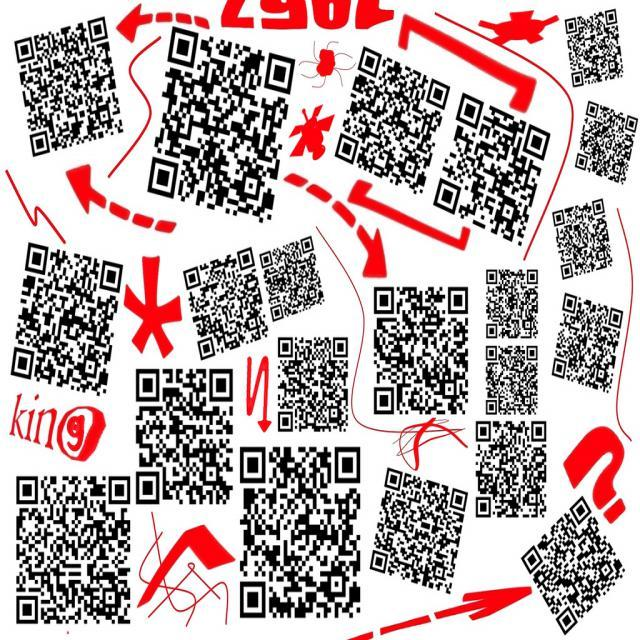qrcode: (148, 27, 296, 226), (241, 448, 361, 619), (434, 93, 552, 247), (11, 243, 124, 399), (335, 47, 451, 198), (17, 477, 131, 624), (15, 17, 124, 158), (522, 496, 628, 636), (137, 369, 234, 505), (371, 468, 470, 595), (375, 288, 469, 415), (184, 247, 271, 362), (552, 294, 624, 395), (477, 422, 547, 518), (279, 338, 349, 432), (260, 236, 326, 323), (575, 101, 639, 187), (553, 200, 614, 281), (565, 10, 625, 89), (488, 270, 539, 339), (487, 347, 538, 415)
